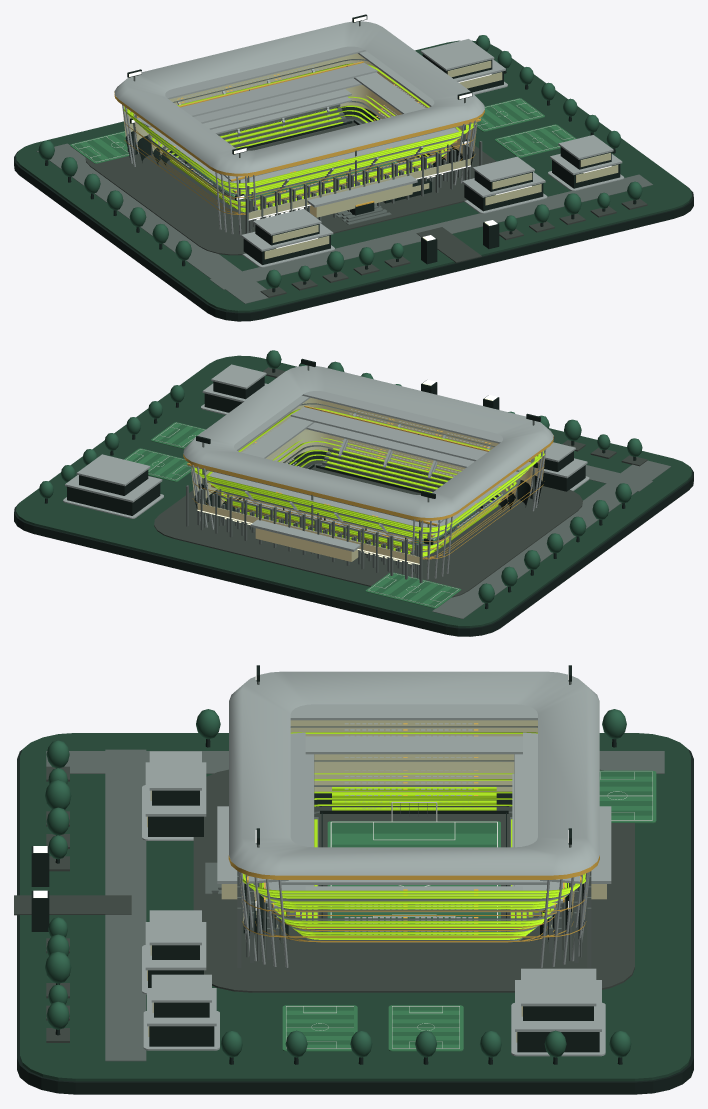
The model's file is campus.glb.
The picture shows the model from 3 angles, top to bottom: view 1: azimuth 30°, elevation 25°; view 2: azimuth 150°, elevation 25°; view 3: azimuth 270°, elevation 25°; orthographic projection. The views are drawn at different scales.
Visible parts, largest first — view 1: campus, facility_stadium_stage_5_5, facility_stadium_stage_4_4, facility_stadium_stage_3_3, facility_stadium_stage_2_2, facility_stadium_stage_0_0, facility_stadium_stage_1_1, facility_training_centre_1, facility_academy_1, facility_medical_1, facility_training_centre_3, facility_creator_studio_1 (+6 smaller); view 2: campus, facility_stadium_stage_5_5, facility_stadium_stage_4_4, facility_stadium_stage_3_3, facility_stadium_stage_2_2, facility_training_centre_1, facility_stadium_stage_1_1, facility_training_centre_3, facility_academy_4, facility_creator_studio_3, facility_stadium_stage_0_0, facility_academy_1 (+3 smaller); view 3: campus, facility_stadium_stage_5_5, facility_stadium_stage_4_4, facility_stadium_stage_3_3, facility_stadium_stage_2_2, facility_training_centre_1, playing_surface, facility_training_centre_3, facility_stadium_stage_1_1, facility_training_centre_4, facility_creator_studio_1, facility_academy_4 (+6 smaller).
Part boxes in pixels (box(x1,y1,x2,y2)): campus: box(14, 35, 693, 321); facility_stadium_stage_5_5: box(114, 21, 484, 235); facility_stadium_stage_4_4: box(127, 14, 480, 232); facility_stadium_stage_3_3: box(137, 61, 460, 229); facility_stadium_stage_2_2: box(133, 78, 465, 234); facility_stadium_stage_0_0: box(130, 96, 469, 234); facility_stadium_stage_1_1: box(170, 89, 420, 208); facility_training_centre_1: box(454, 59, 544, 131); facility_academy_1: box(241, 223, 334, 267); facility_medical_1: box(462, 172, 547, 213); facility_training_centre_3: box(420, 39, 494, 78); facility_creator_studio_1: box(548, 153, 624, 190); campus: box(14, 350, 693, 636); facility_stadium_stage_5_5: box(183, 365, 553, 582); facility_stadium_stage_4_4: box(187, 358, 540, 579); facility_stadium_stage_3_3: box(207, 406, 531, 573); facility_stadium_stage_2_2: box(202, 422, 534, 568); facility_training_centre_1: box(63, 448, 191, 518); facility_stadium_stage_1_1: box(243, 447, 498, 554); facility_training_centre_3: box(76, 454, 150, 495); facility_academy_4: box(365, 572, 461, 608); facility_creator_studio_3: box(211, 364, 266, 399); facility_stadium_stage_0_0: box(198, 462, 538, 578); facility_academy_1: box(542, 458, 589, 491); campus: box(14, 709, 693, 1094); facility_stadium_stage_5_5: box(205, 671, 611, 967); facility_stadium_stage_4_4: box(218, 665, 582, 962); facility_stadium_stage_3_3: box(263, 732, 565, 959); facility_stadium_stage_2_2: box(257, 754, 571, 960); facility_training_centre_1: box(388, 980, 605, 1056); playing_surface: box(327, 802, 500, 934); facility_training_centre_3: box(521, 968, 596, 1020); facility_stadium_stage_1_1: box(289, 773, 543, 934); facility_training_centre_4: box(282, 1005, 357, 1051); facility_creator_studio_1: box(143, 988, 219, 1050); facility_academy_4: box(599, 770, 656, 823).
Size of the model in its own units: 28 by 5.39 by 23.1.
